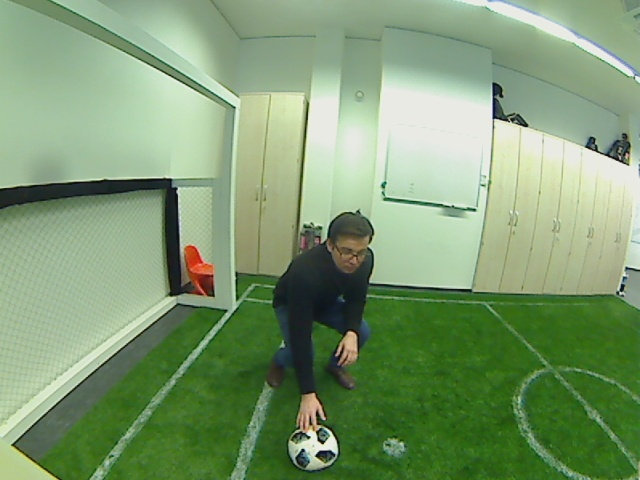ball: (286, 421, 341, 472)
